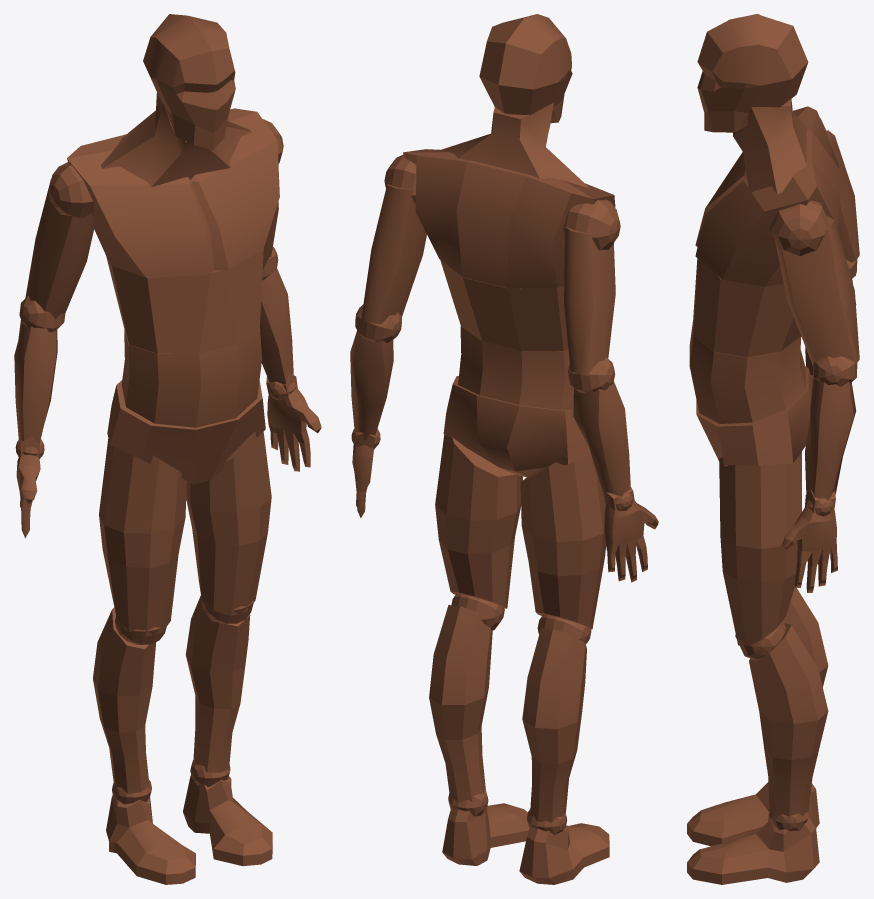
The model's file is Mannequin.fbx.
3 renders of one model, left to right at view 1: azimuth 30°, elevation 25°; view 2: azimuth 150°, elevation 25°; view 3: azimuth 270°, elevation 25°, orthographic.
Visible parts, largest first — view 1: polySurface73, polySurface57, polySurface74, polySurface40, polySurface75, polySurface71, polySurface55, polySurface38, polySurface76, polySurface72, polySurface67, polySurface65 (+9 smaller); view 2: polySurface73, polySurface57, polySurface40, polySurface38, polySurface55, polySurface76, polySurface71, polySurface74, polySurface75, polySurface67, polySurface50, polySurface72 (+12 smaller); view 3: polySurface40, polySurface73, polySurface38, polySurface71, polySurface75, polySurface50, polySurface74, polySurface76, polySurface72, polySurface125, polySurface48, polySurface45 (+9 smaller).
Boxes of the visible parts, x1,y1,x2,y2 form: polySurface73: (67, 108, 279, 277); polySurface57: (99, 439, 186, 636); polySurface74: (106, 249, 263, 353); polySurface40: (186, 431, 271, 615); polySurface75: (121, 329, 261, 427); polySurface71: (143, 14, 235, 150); polySurface55: (93, 607, 156, 793); polySurface38: (185, 595, 250, 772); polySurface76: (107, 380, 265, 484); polySurface72: (101, 93, 251, 187); polySurface67: (25, 179, 94, 319); polySurface65: (14, 320, 57, 443); polySurface73: (403, 149, 615, 288); polySurface57: (520, 455, 605, 629); polySurface40: (435, 434, 522, 608); polySurface38: (429, 605, 492, 802); polySurface55: (522, 628, 586, 822); polySurface76: (443, 376, 591, 477); polySurface71: (479, 14, 572, 123); polySurface74: (440, 259, 568, 350); polySurface75: (458, 326, 573, 409); polySurface67: (564, 227, 615, 375); polySurface50: (361, 184, 426, 323); polySurface72: (438, 102, 588, 187); polySurface40: (719, 457, 801, 646); polySurface73: (695, 106, 840, 286); polySurface38: (749, 623, 828, 817); polySurface71: (697, 14, 808, 132); polySurface75: (689, 320, 805, 423); polySurface50: (775, 216, 859, 365); polySurface74: (693, 258, 800, 357); polySurface76: (696, 366, 812, 466); polySurface72: (733, 99, 807, 194); polySurface125: (722, 818, 819, 884); polySurface48: (805, 377, 856, 500); polySurface45: (769, 200, 828, 256).
Size of the model in its own units: 67.67 by 181 by 33.81.
